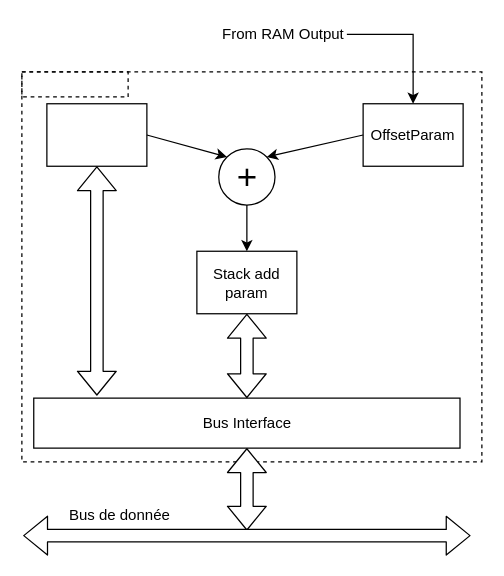
Some shapes in this 504 by 576 pixel diagram are drawn without their labels. Here are the shapes that lost their labels. From the top down, the centre of each, then its label:
At [74,84]: "Stack Adder".
At [96,134]: "EBP".
